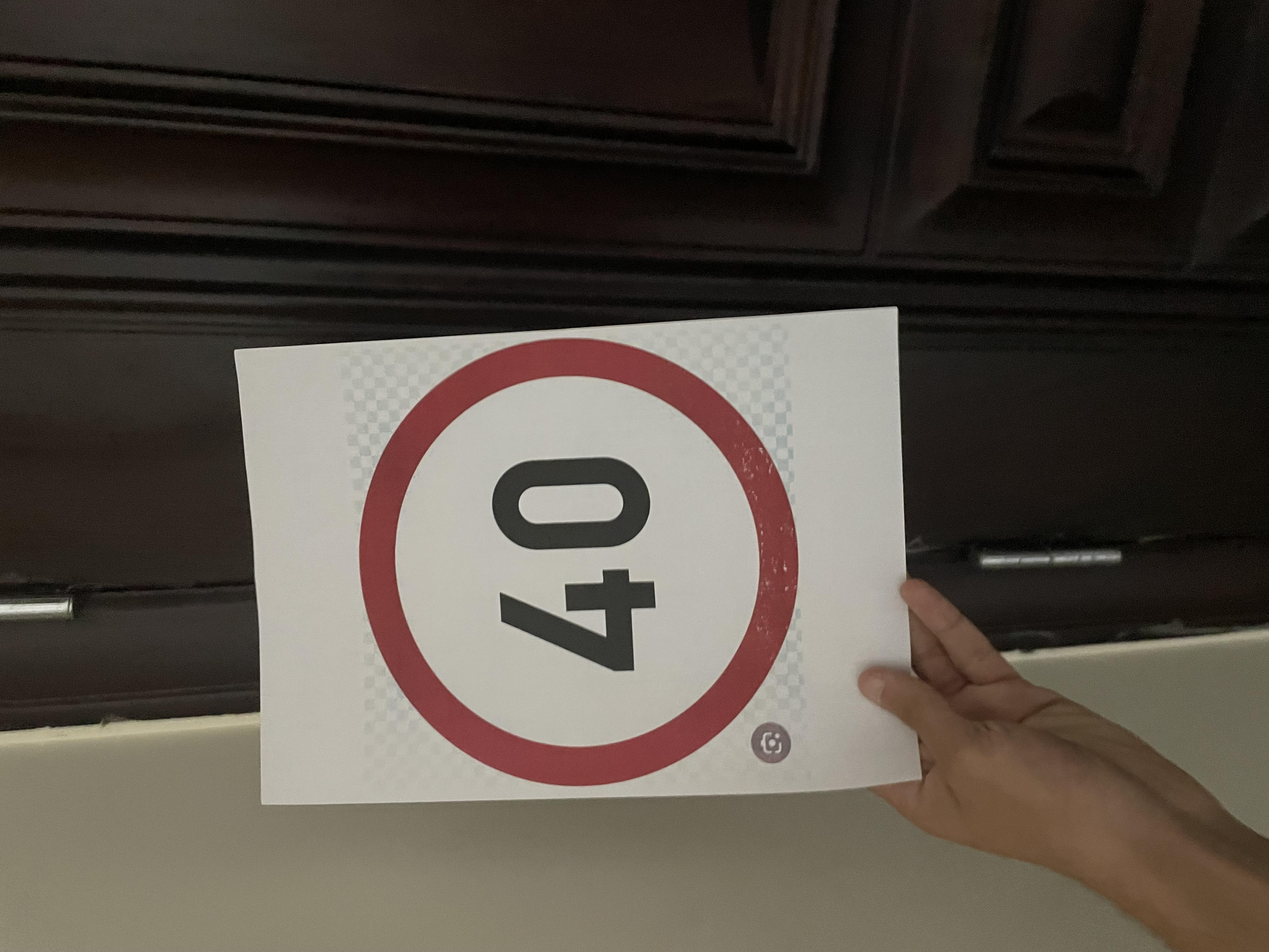40-Speed: (215, 270, 838, 598)
